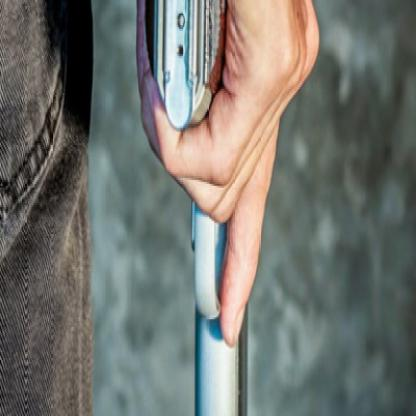gun: (152, 0, 267, 414)
